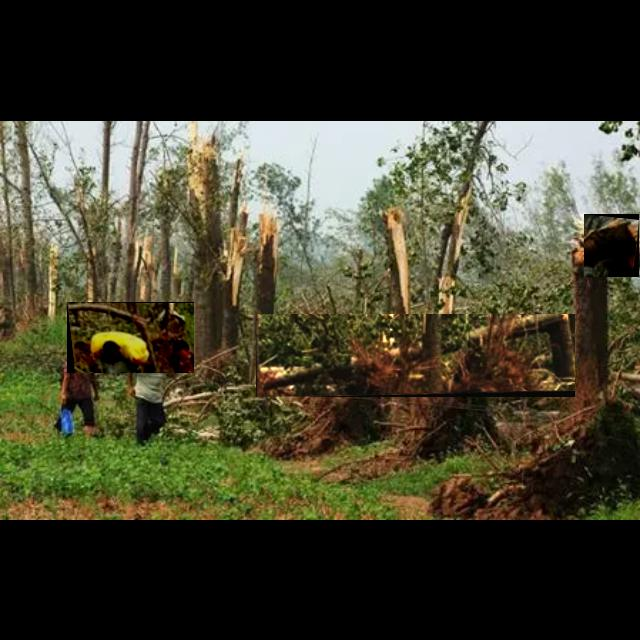Fallen Tree: (256, 314, 576, 398), (67, 302, 195, 374), (584, 214, 640, 278)
